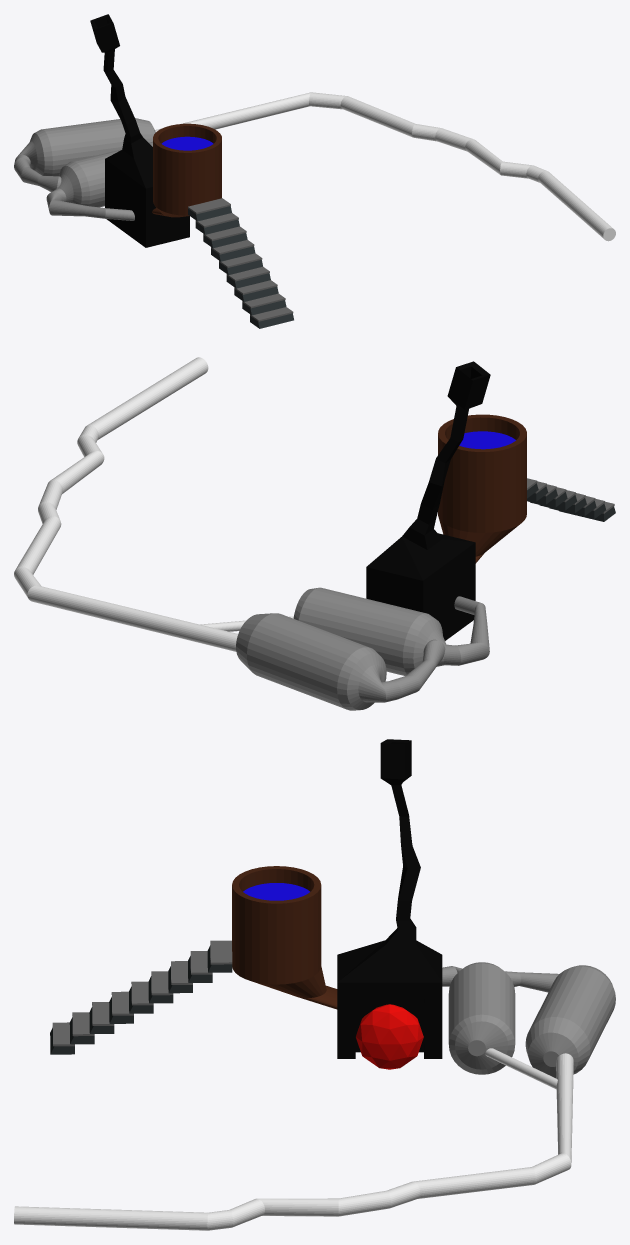
The model's file is station_furnace.glb.
The picture shows the model from 3 angles, top to bottom: view 1: azimuth 30°, elevation 25°; view 2: azimuth 150°, elevation 25°; view 3: azimuth 270°, elevation 25°; orthographic projection. The views are drawn at different scales.
Parts seen in each view (by area): view 1: Cube.003, Cylinder.026, Cylinder.025, Cube.008, Cylinder.001, Cylinder; view 2: Cube.003, Cylinder.001, Cylinder.025, Cylinder.026, Cylinder, Cube.008; view 3: Cube.003, Cylinder.026, Cylinder.025, Cylinder.001, Cylinder, Cube.008, Icosphere.009, Cylinder.027.
Part boxes in pixels (x1=…): Cube.003: x1=90, y1=14, x2=189, y2=247; Cylinder.026: x1=155, y1=92, x2=615, y2=241; Cylinder.025: x1=152, y1=123, x2=221, y2=217; Cube.008: x1=188, y1=198, x2=293, y2=328; Cylinder.001: x1=14, y1=118, x2=155, y2=191; Cylinder: x1=46, y1=141, x2=152, y2=220; Cube.003: x1=366, y1=361, x2=490, y2=640; Cylinder.001: x1=236, y1=613, x2=445, y2=710; Cylinder.025: x1=438, y1=414, x2=526, y2=563; Cylinder.026: x1=14, y1=357, x2=238, y2=651; Cylinder: x1=293, y1=587, x2=489, y2=675; Cube.008: x1=527, y1=478, x2=615, y2=521; Cube.003: x1=337, y1=739, x2=442, y2=1058; Cylinder.026: x1=14, y1=1053, x2=573, y2=1230; Cylinder.025: x1=232, y1=866, x2=337, y2=1009; Cylinder.001: x1=505, y1=965, x2=615, y2=1078; Cylinder: x1=442, y1=962, x2=515, y2=1074; Cube.008: x1=50, y1=940, x2=232, y2=1054; Icosphere.009: x1=356, y1=1004, x2=423, y2=1069; Cylinder.027: x1=485, y1=1048, x2=557, y2=1089.
Size of the model in its own units: 17.31 by 9.3 by 17.14.
